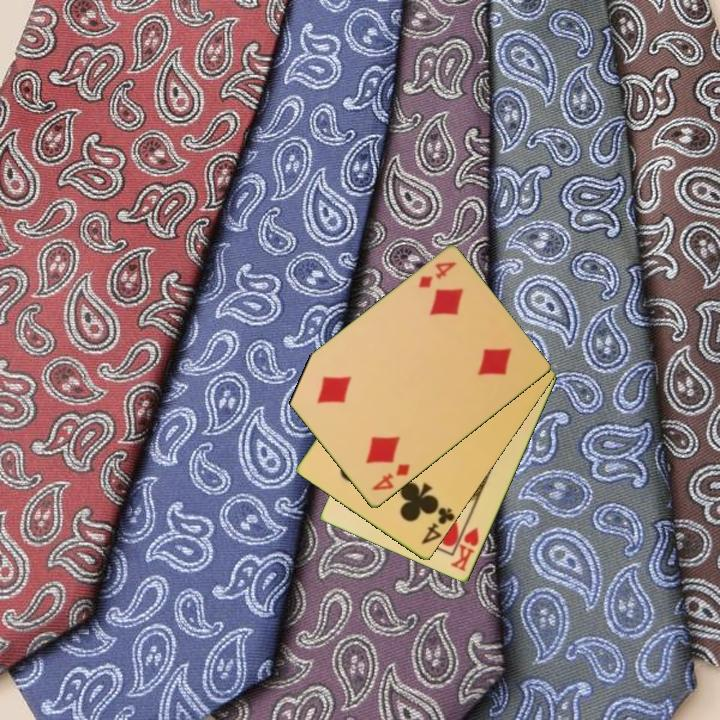4c: (418, 504, 457, 548)
4d: (369, 460, 413, 494), (415, 258, 459, 292)
Kh: (447, 517, 482, 575)
